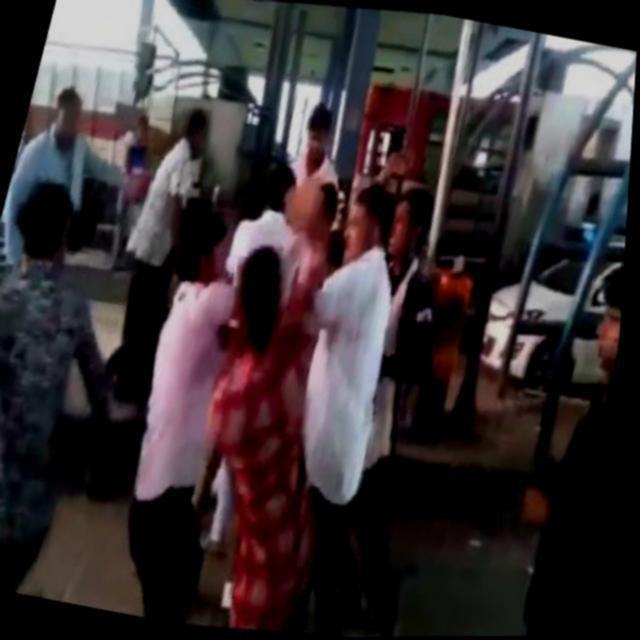fight: (79, 150, 418, 640)
